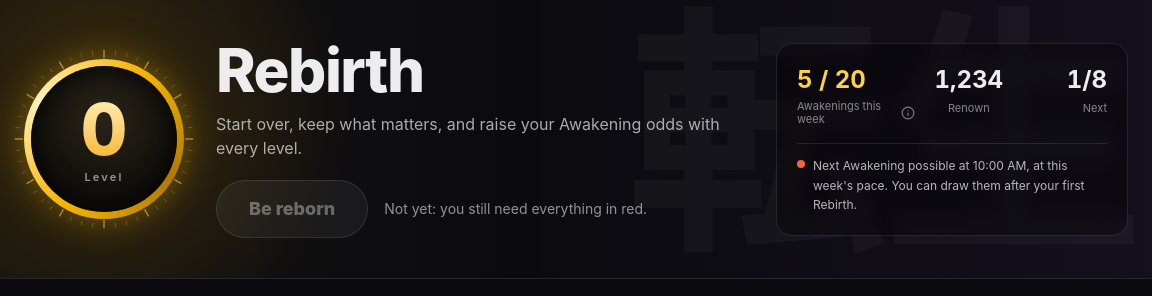
Test: RebirthHero › explains the weekly pace in a tooltip
This screenshot has width=1152, height=296.
Click the button named "How the weekly pace works".
click(908, 113)  # box [901, 106, 915, 120]
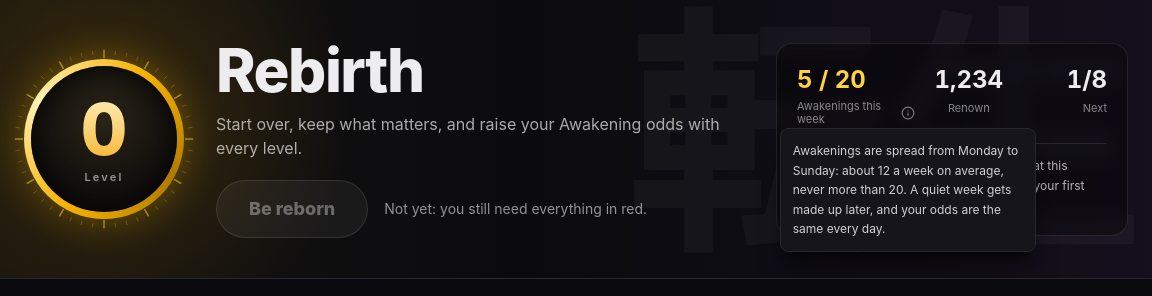
Expected: the tooltip shows "never more than 20", [793, 143, 1018, 236]
